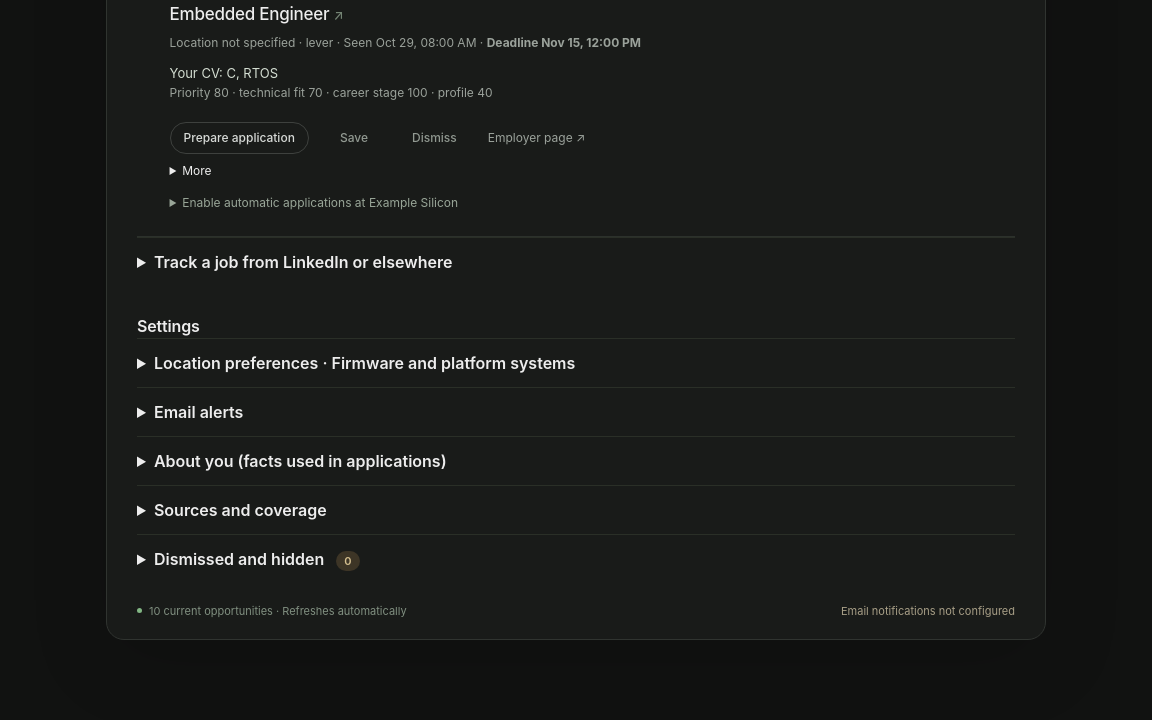
it: saves alert preferences and shows the server's refusal instead of a success
(page scrolled)
Click the heading "Email alerts": coordinates (199, 412) [154, 402, 243, 422]
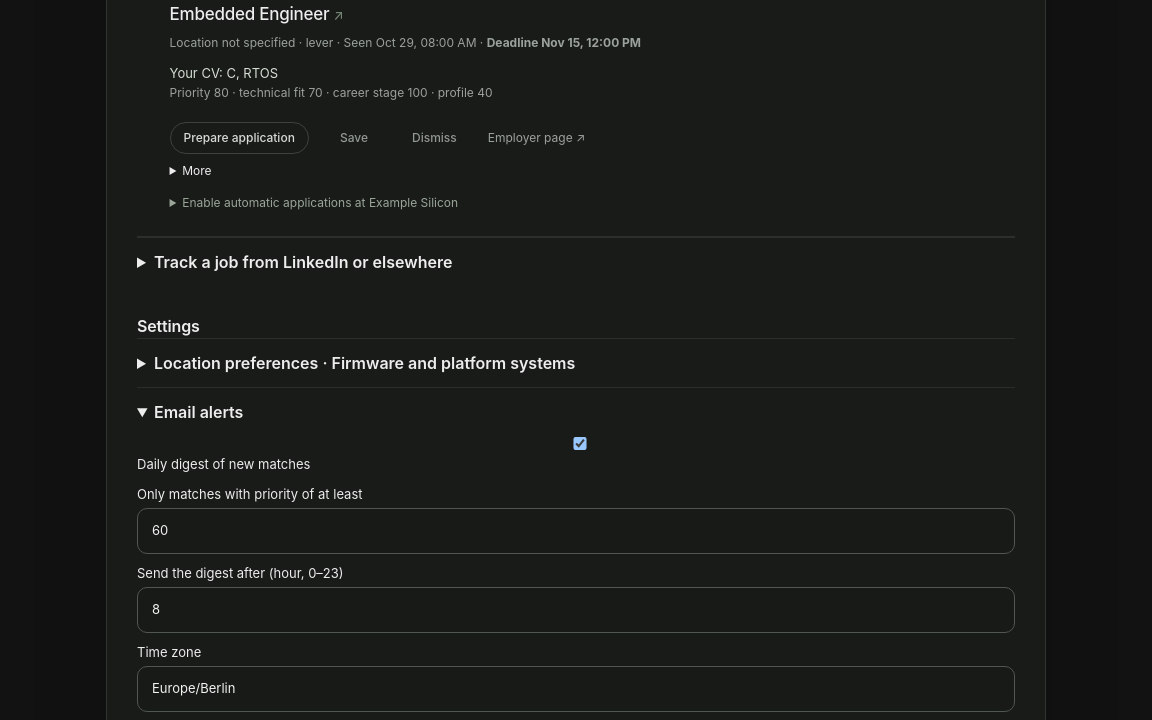
Replace the text in the field labelled "Time zone" with "Mars/Olympus": coordinates (576, 689) [137, 666, 1015, 712]
(page scrolled)
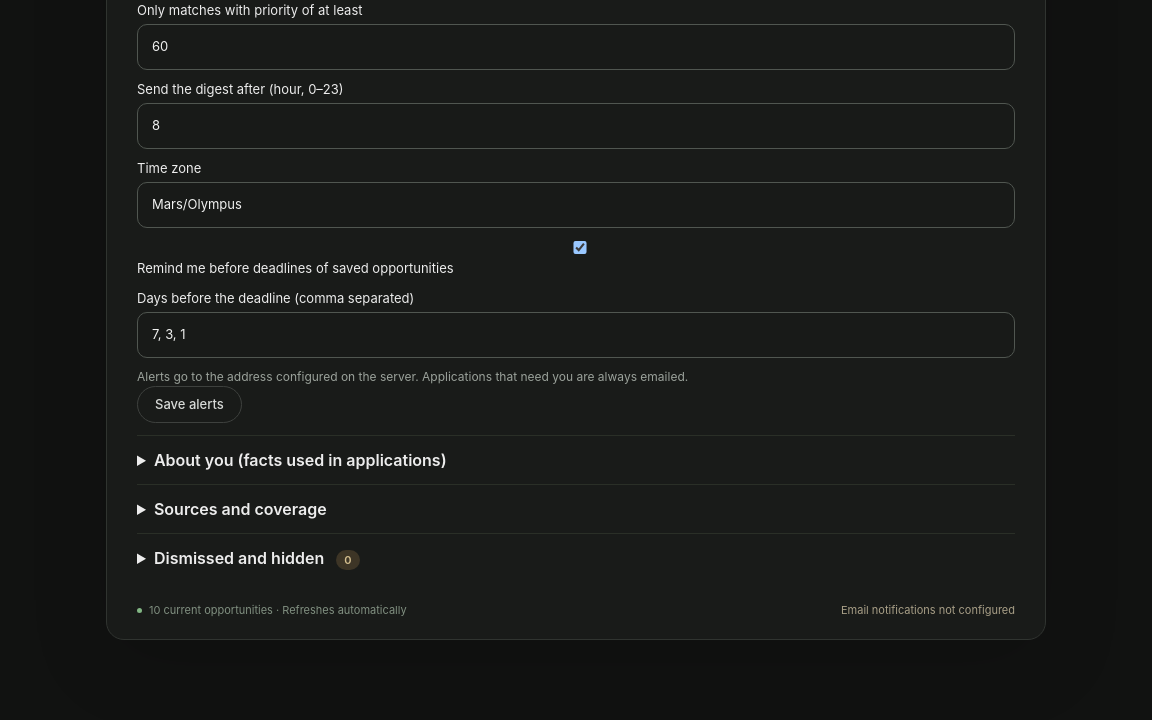
Click the button "Save alerts": coordinates (189, 404) [137, 386, 242, 423]
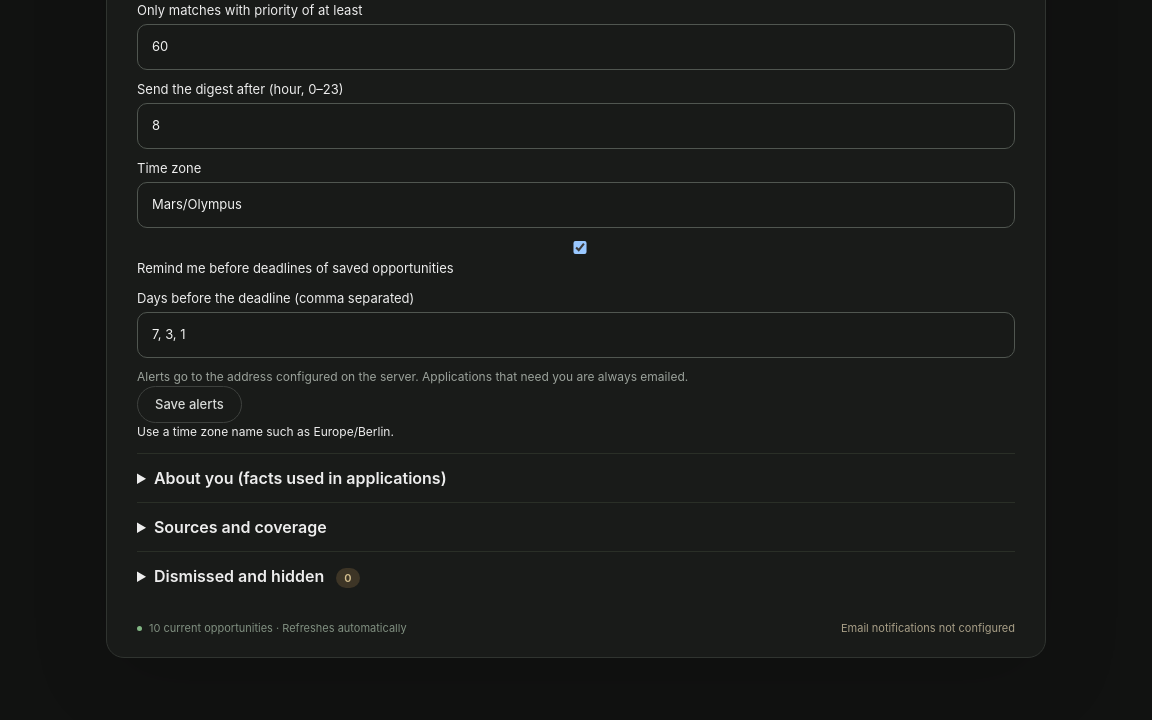
Now the text "Use a time zone name such as Europe/Berlin." is shown, box [137, 424, 394, 439]
Replace the text in the field labelled "Time zone" with "Europe/Berlin": coordinates (576, 205) [137, 182, 1015, 228]
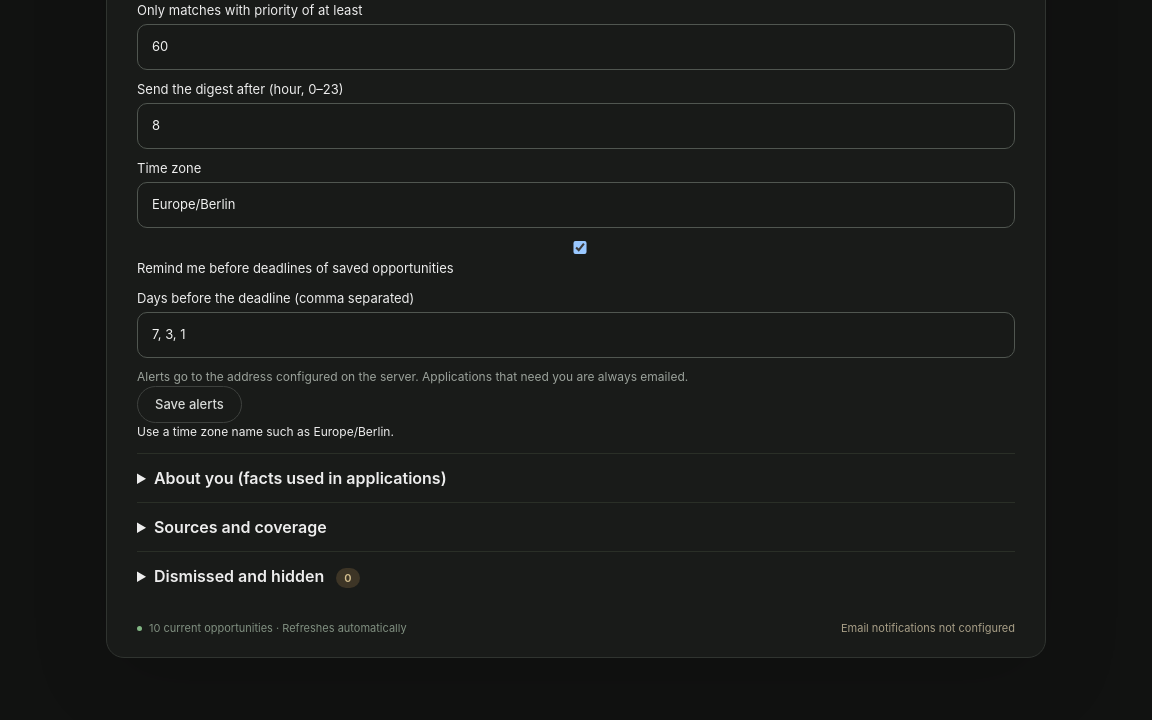
Replace the text in the field labelled "Days before the deadline (comma separated)" with "14, 2": coordinates (576, 335) [137, 312, 1015, 358]
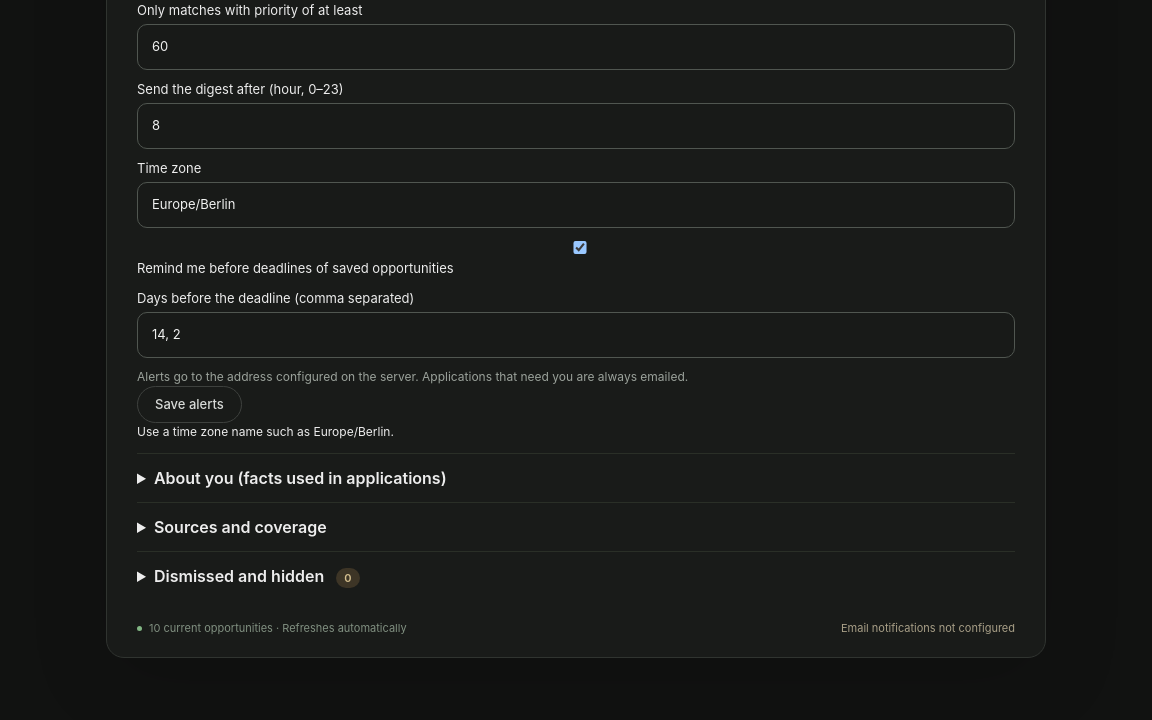
Click the button "Save alerts": coordinates (189, 404) [137, 386, 242, 423]
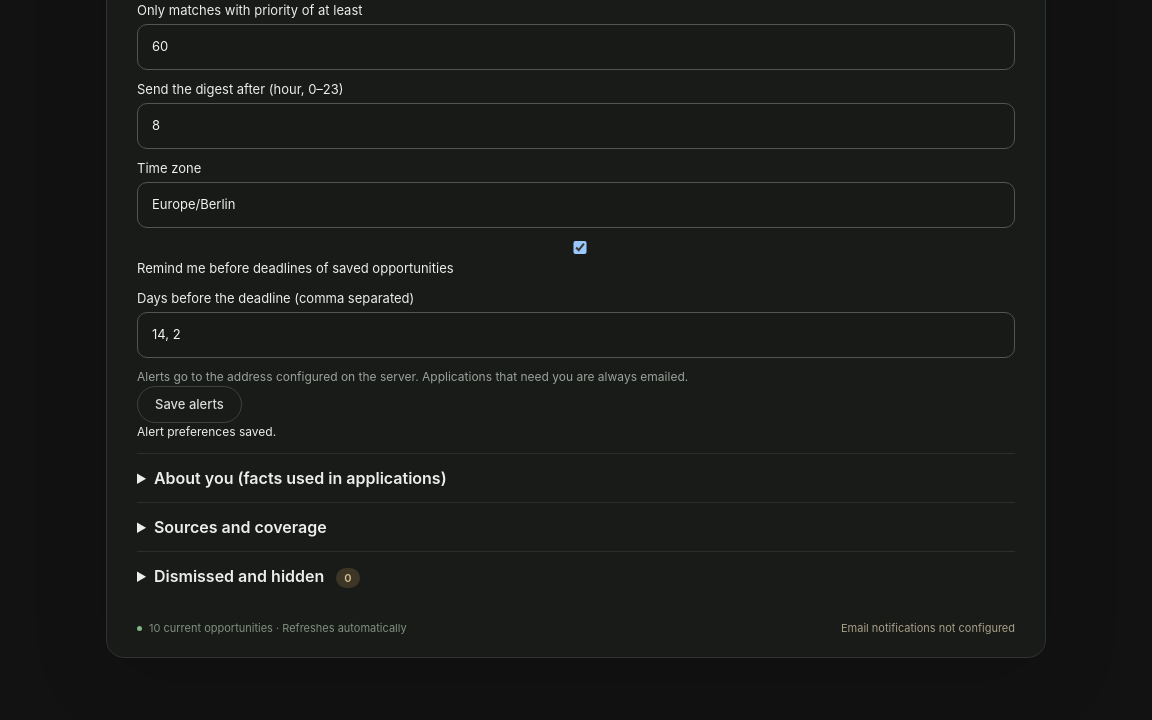
Now the text "Alert preferences saved." is shown, box [137, 424, 276, 439]
